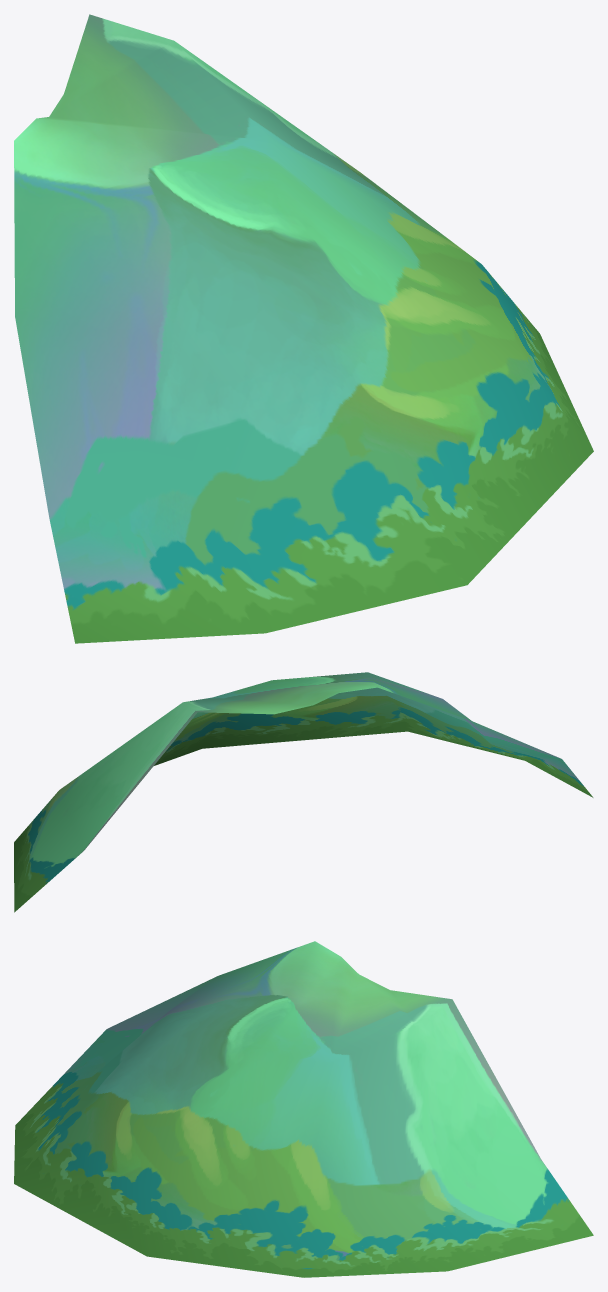
The model's file is Loma3.FBX.
The picture shows the model from 3 angles, top to bottom: view 1: azimuth 30°, elevation 25°; view 2: azimuth 150°, elevation 25°; view 3: azimuth 270°, elevation 25°; orthographic projection. The views are drawn at different scales.
Parts seen in each view (by area): view 1: loma003; view 2: loma003; view 3: loma003.
Part boxes in pixels (x1,y1,x2,y2): loma003: (14, 14, 593, 643); loma003: (14, 672, 593, 912); loma003: (14, 941, 593, 1277).
Bounding box in the file's own units: 829 × 371 × 1041.
